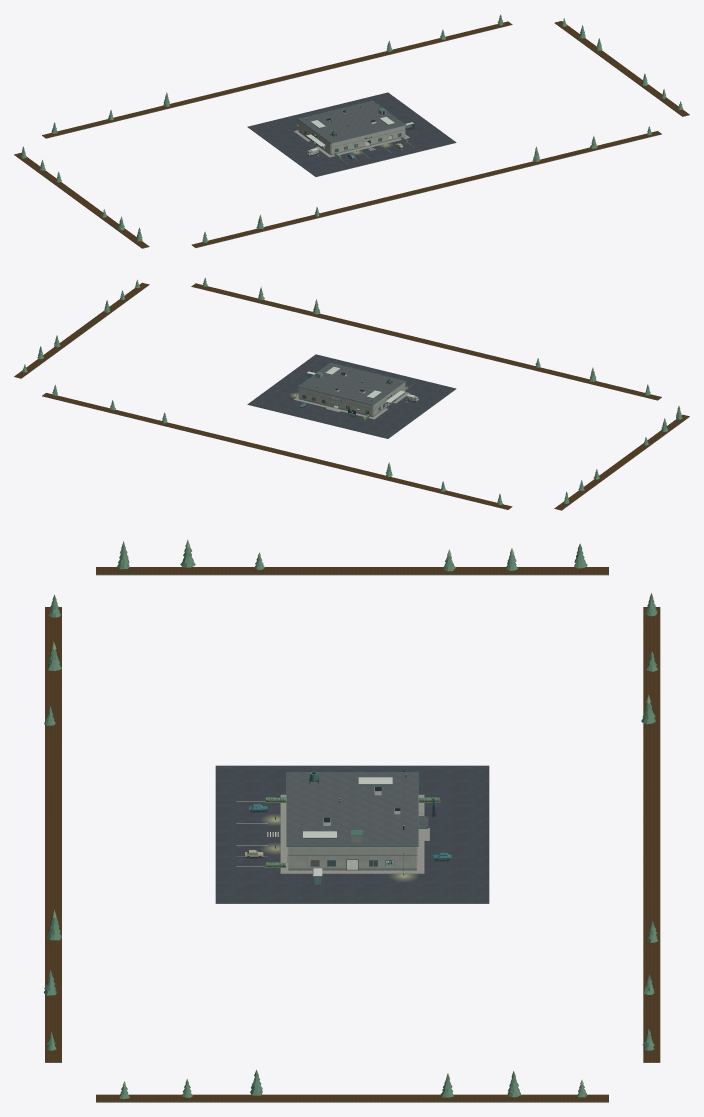
File: hospital.glb
3 renders of one model, top to bottom at view 1: azimuth 30°, elevation 25°; view 2: azimuth 150°, elevation 25°; view 3: azimuth 270°, elevation 25°, orthographic. The views are drawn at different scales.
Visible parts, largest first — view 1: Hospital__Pine_mulch, Hospital__Asphalt, Roof__Roof_membrane, Hospital__Concrete, Hospital__Leaf_dark, Hospital__Facade_plaster; view 2: Hospital__Pine_mulch, Hospital__Asphalt, Roof__Roof_membrane, Hospital__Concrete, Hospital__Leaf_dark, Hospital__Facade_plaster; view 3: Hospital__Asphalt, Hospital__Pine_mulch, Roof__Roof_membrane, Hospital__Leaf_dark, Hospital__Concrete, Hospital__Facade_plaster, Hospital__Paving.
Part boxes in pixels (<box>): Hospital__Pine_mulch: <box>14,21,689,248</box>; Hospital__Asphalt: <box>248,92,455,176</box>; Roof__Roof_membrane: <box>298,101,405,142</box>; Hospital__Concrete: <box>14,23,689,248</box>; Hospital__Leaf_dark: <box>20,14,683,242</box>; Hospital__Facade_plaster: <box>298,120,405,153</box>; Hospital__Pine_mulch: <box>14,282,689,510</box>; Hospital__Asphalt: <box>248,354,455,438</box>; Roof__Roof_membrane: <box>298,363,404,404</box>; Hospital__Concrete: <box>14,285,689,510</box>; Hospital__Leaf_dark: <box>22,277,682,504</box>; Hospital__Facade_plaster: <box>298,382,405,415</box>; Hospital__Asphalt: <box>215,765,489,902</box>; Hospital__Pine_mulch: <box>45,567,660,1101</box>; Roof__Roof_membrane: <box>286,772,418,845</box>; Hospital__Leaf_dark: <box>44,541,657,1098</box>; Hospital__Concrete: <box>45,574,660,1102</box>; Hospital__Facade_plaster: <box>288,847,416,868</box>; Hospital__Paving: <box>281,795,429,873</box>.
Size of the model in its own units: 297 by 12.46 by 144.
Materials: 67 (40 with a texture image).
